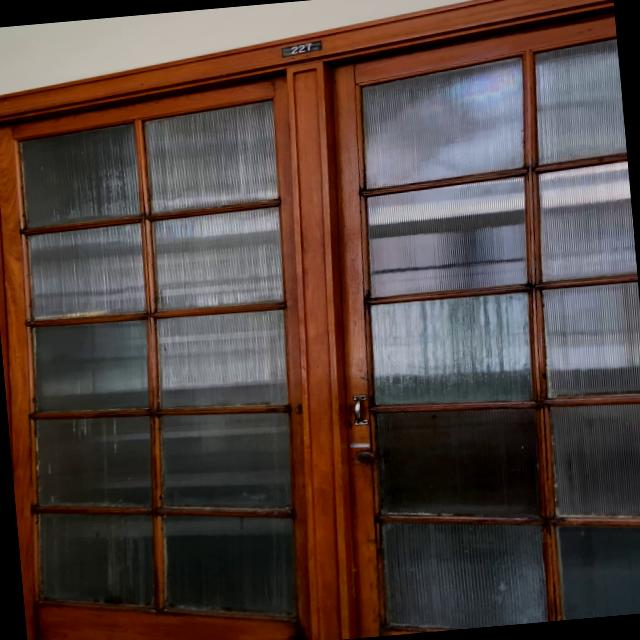room227: (278, 38, 324, 58)
